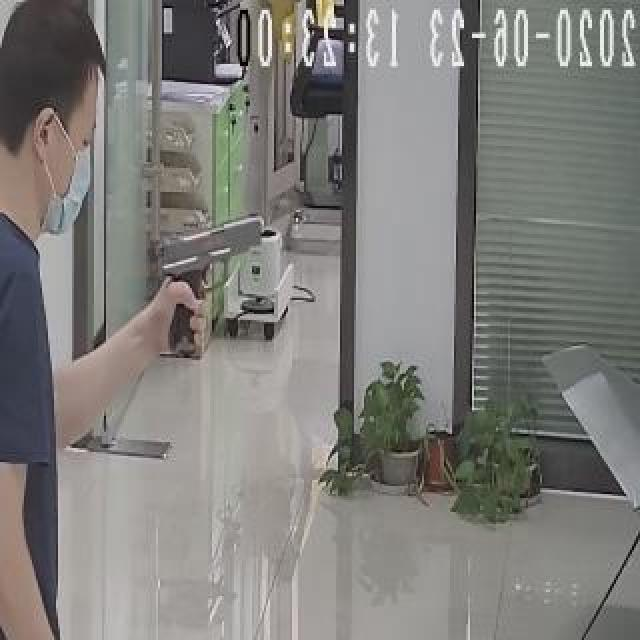Guns: (148, 208, 277, 358)
